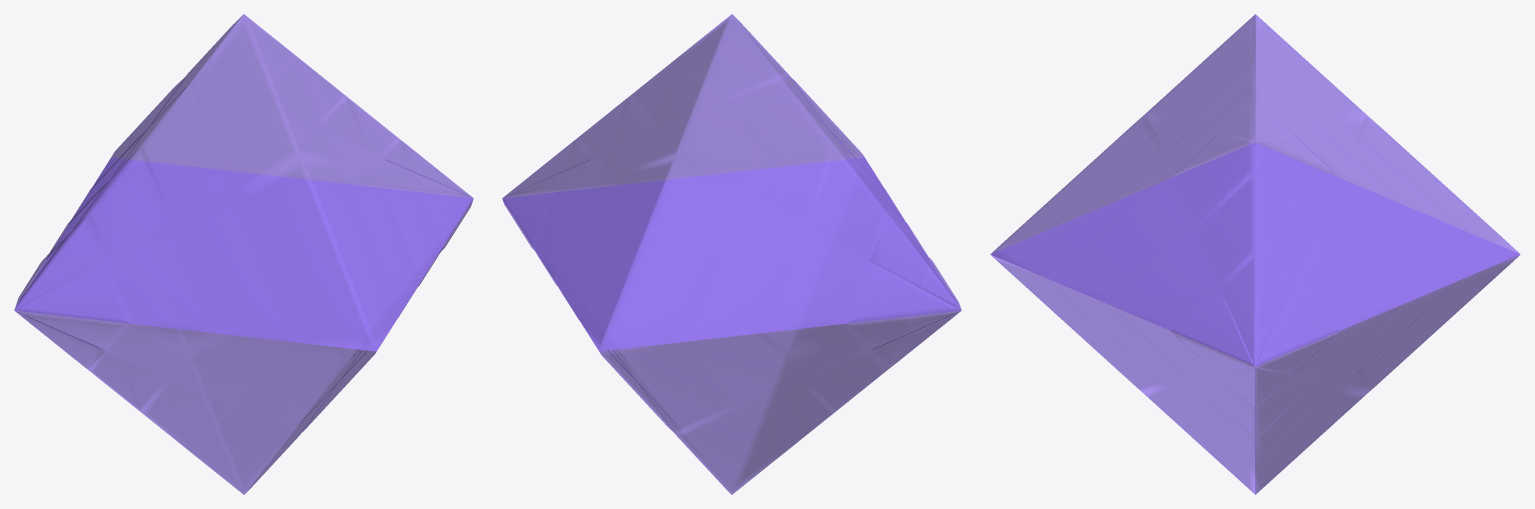
The model's file is diamond.glb.
3 views of the same model, side by side, from view 1: azimuth 30°, elevation 25°; view 2: azimuth 150°, elevation 25°; view 3: azimuth 270°, elevation 25° (orthographic).
Visible parts, largest first — view 1: pPyramid2; view 2: pPyramid2; view 3: pPyramid2.
Boxes of the visible parts, <box> form: pPyramid2: <box>14,14,473,494</box>; pPyramid2: <box>502,14,961,494</box>; pPyramid2: <box>990,14,1520,494</box>.
Bounding box in the file's own units: 454 × 454 × 454.
